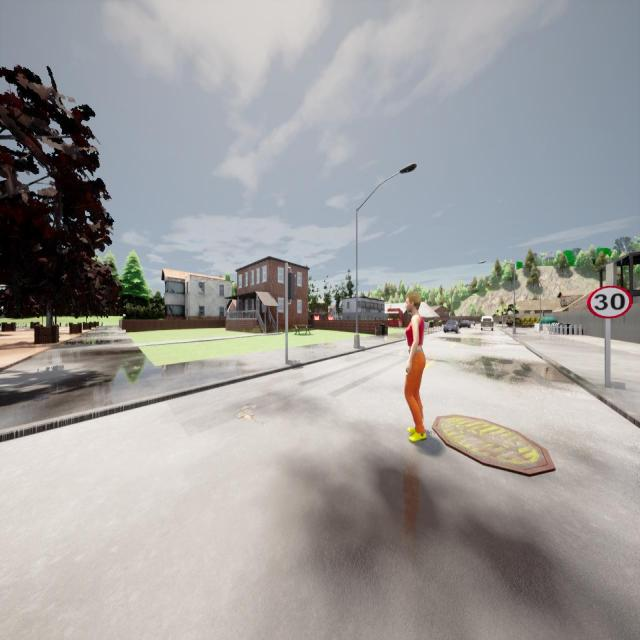Pedestrian: (404, 292, 427, 443)
Traffic_Signs: (586, 285, 632, 319)
Vehicle: (443, 319, 459, 334), (481, 316, 494, 331), (459, 319, 471, 329), (471, 320, 476, 326)
traffic_light: (288, 272, 294, 300), (502, 310, 504, 316)
